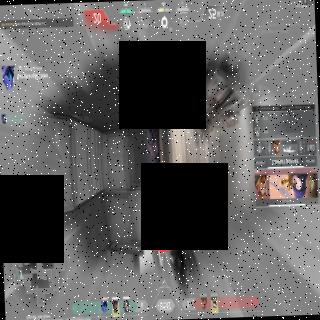ENEMY-BODY: (147, 114, 159, 160)
ENEMY-HEAD: (152, 151, 156, 158)
